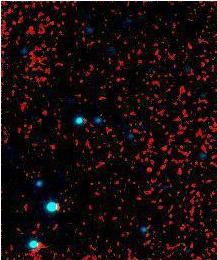star: (133, 154, 163, 184)
